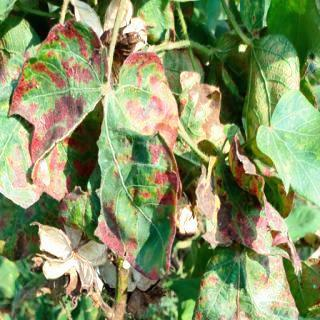blight: (13, 23, 195, 272), (192, 132, 310, 281)
